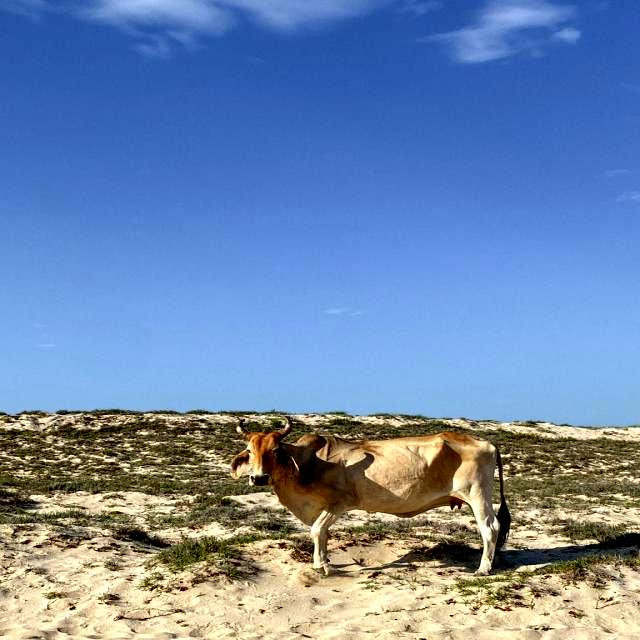COW: (232, 418, 510, 574)
